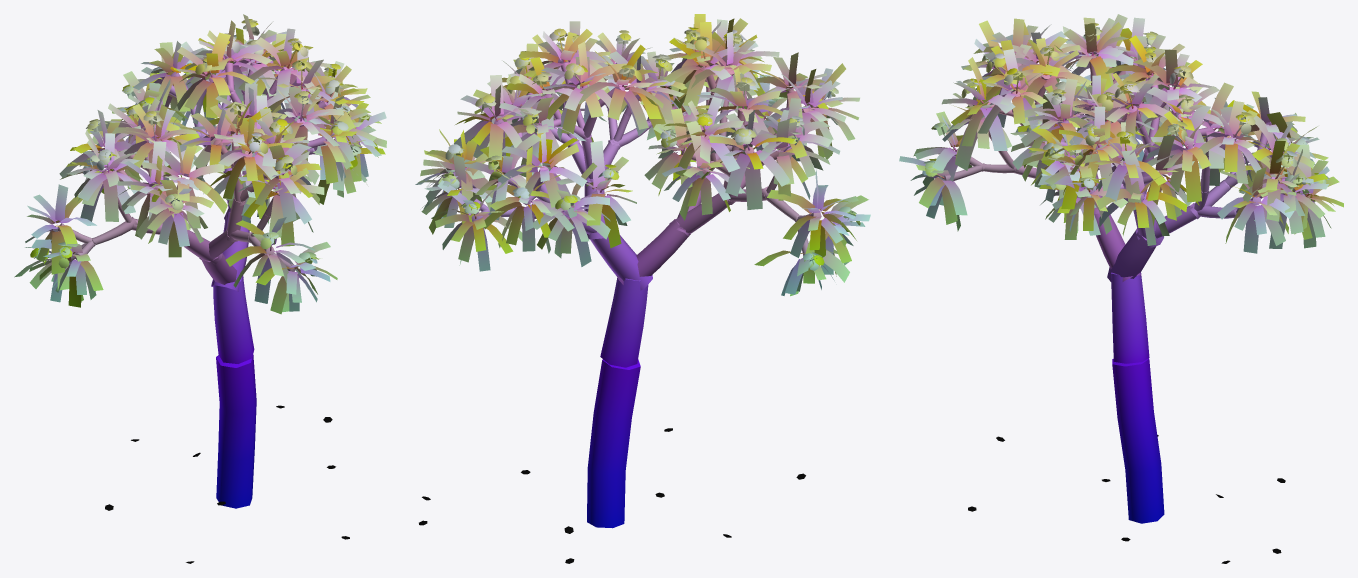
File: frangipani_a.glb
3 renders of one model, left to right at view 1: azimuth 30°, elevation 25°; view 2: azimuth 150°, elevation 25°; view 3: azimuth 270°, elevation 25°, orthographic. The views are drawn at different scales.
Parts seen in each view (by area): view 1: frangipani_a; view 2: frangipani_a; view 3: frangipani_a.
Boxes of the visible parts, x1,y1,x2,y2 form: frangipani_a: [14, 14, 386, 563]; frangipani_a: [415, 14, 870, 563]; frangipani_a: [899, 14, 1343, 563].
Size of what is drawn, in the model's own units: 3.47 by 4.28 by 3.66.
